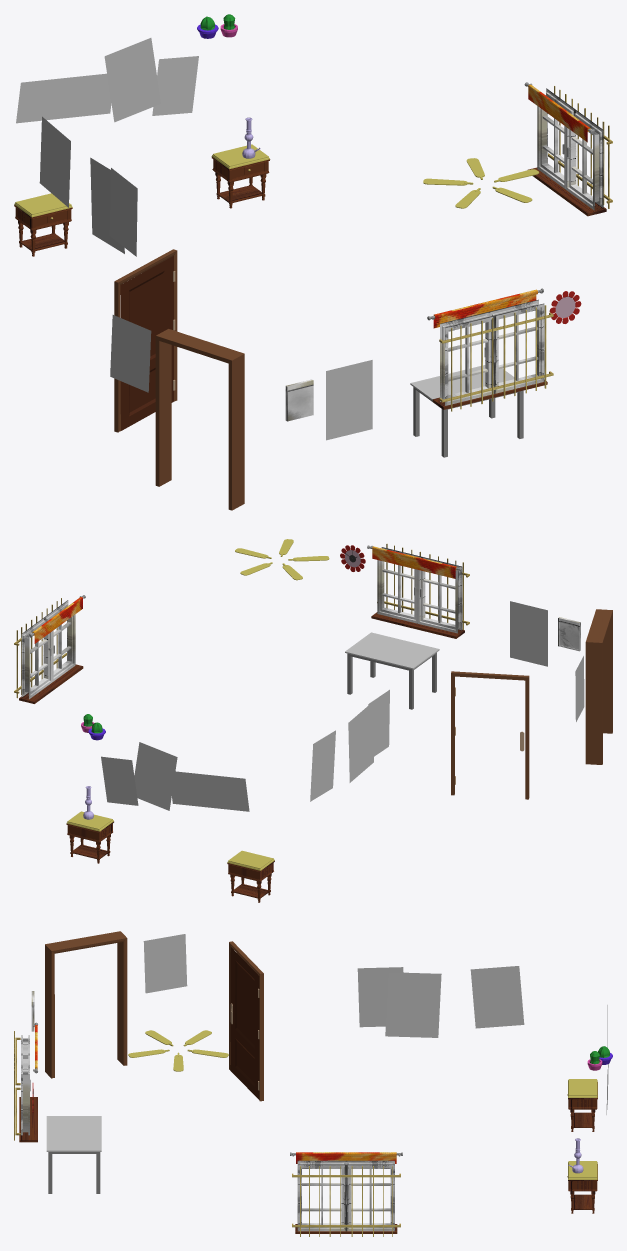
File: Quarto1.fbx
3 renders of one model, top to bottom at view 1: azimuth 30°, elevation 25°; view 2: azimuth 150°, elevation 25°; view 3: azimuth 270°, elevation 25°, orthographic. The views are drawn at different scales.
Visible parts, largest first — view 1: JanelaCozinha, Moldura.Porta.Saida, JanelaQuarto, Porta.WC, Q5, Q4, Q2, GradesJanelas, Q7, mesa, mesa_cama.001, mesa_cama (+9 smaller); view 2: JanelaCozinha, JanelaQuarto, Moldura.Porta.Saida, mesa, Q5, Q2, Q4, mesa_cama.001, mesa_cama, Moldura.Porta.WC, Q8, Q3 (+8 smaller); view 3: JanelaQuarto, Porta.WC, Moldura.Porta.Saida, Q6, Q3, mesa, Q7, Q1, JanelaCozinha, GradesJanelas.001, mesa_cama.001, mesa_cama (+2 smaller).
Boxes of the visible parts, box(x1,y1,x2,y2) form: JanelaCozinha: box(427, 288, 547, 409); Moldura.Porta.Saida: box(155, 329, 244, 510); JanelaQuarto: box(524, 82, 606, 216); Porta.WC: box(120, 256, 175, 430); Q5: box(16, 73, 111, 123); Q4: box(104, 38, 160, 122); Q2: box(326, 360, 372, 440); GradesJanelas: box(439, 305, 553, 411); Q7: box(110, 315, 151, 392); mesa: box(410, 365, 523, 457); mesa_cama.001: box(14, 193, 72, 256); mesa_cama: box(211, 144, 270, 208); JanelaCozinha: box(367, 545, 464, 638); JanelaQuarto: box(19, 595, 85, 703); Moldura.Porta.Saida: box(585, 609, 612, 764); mesa: box(345, 632, 439, 709); Q5: box(168, 770, 249, 811); Q2: box(510, 601, 547, 666); Q4: box(134, 742, 177, 810); mesa_cama.001: box(227, 850, 274, 902); mesa_cama: box(66, 811, 113, 863); Moldura.Porta.WC: box(451, 671, 529, 799); Q8: box(101, 756, 138, 805); Q3: box(310, 730, 335, 801); JanelaQuarto: box(290, 1152, 402, 1233); Porta.WC: box(230, 947, 259, 1099); Moldura.Porta.Saida: box(45, 931, 127, 1078); Q6: box(385, 972, 441, 1037); Q3: box(470, 966, 524, 1028); mesa: box(46, 1116, 101, 1193); Q7: box(143, 934, 187, 993); Q1: box(357, 967, 403, 1027); JanelaCozinha: box(19, 1022, 37, 1142); GradesJanelas.001: box(292, 1166, 400, 1236); mesa_cama.001: box(567, 1079, 597, 1131); mesa_cama: box(567, 1161, 597, 1213).
Bounding box in the file's own units: 853 × 273 × 921.
